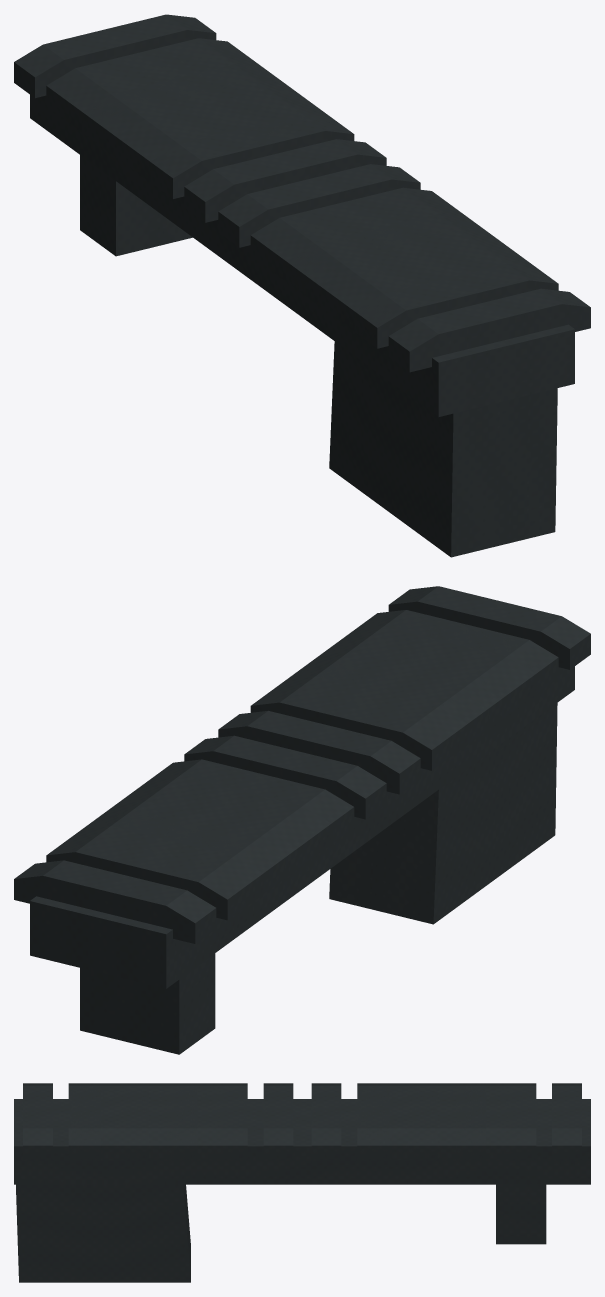
Rendered from sks_mount.glb.
The picture shows the model from 3 angles, top to bottom: view 1: azimuth 30°, elevation 25°; view 2: azimuth 150°, elevation 25°; view 3: azimuth 270°, elevation 25°; orthographic projection. The views are drawn at different scales.
Parts seen in each view (by area): view 1: mount__sks_mount_LOD0_RAID_Secondary_Original_steel, mount__sks_mount_LOD1_RAID_Secondary_Original_steel; view 2: mount__sks_mount_LOD0_RAID_Secondary_Original_steel, mount__sks_mount_LOD1_RAID_Secondary_Original_steel; view 3: mount__sks_mount_LOD0_RAID_Secondary_Original_steel, mount__sks_mount_LOD1_RAID_Secondary_Original_steel.
Part boxes in pixels (x1=…): mount__sks_mount_LOD0_RAID_Secondary_Original_steel: x1=14, y1=14, x2=590, y2=557; mount__sks_mount_LOD1_RAID_Secondary_Original_steel: x1=46, y1=38, x2=558, y2=348; mount__sks_mount_LOD0_RAID_Secondary_Original_steel: x1=14, y1=586, x2=590, y2=1054; mount__sks_mount_LOD1_RAID_Secondary_Original_steel: x1=46, y1=610, x2=558, y2=920; mount__sks_mount_LOD0_RAID_Secondary_Original_steel: x1=14, y1=1083, x2=590, y2=1282; mount__sks_mount_LOD1_RAID_Secondary_Original_steel: x1=68, y1=1083, x2=536, y2=1160.
Size of the model in its own units: 0.073 by 0.086 by 0.285.
Materials: 1 (1 with a texture image).
